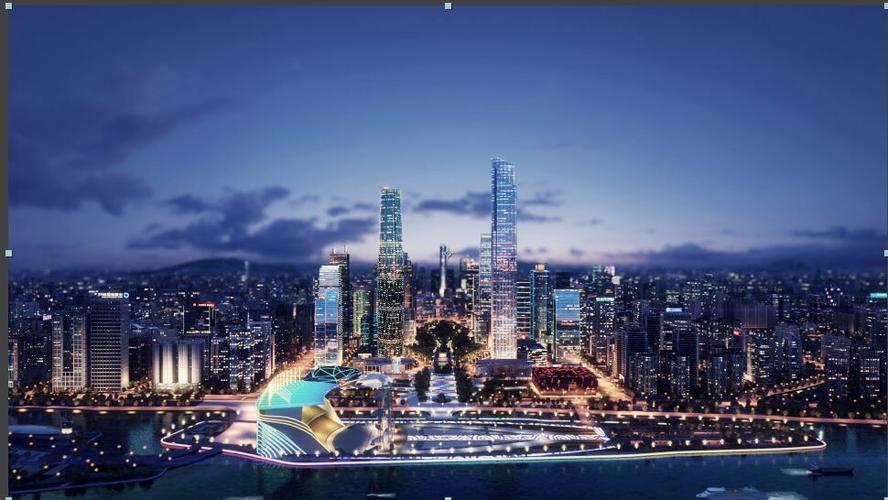buildings: (586, 260, 848, 424), (25, 274, 255, 408), (466, 148, 542, 380), (349, 173, 425, 371)
sky_cloud: (85, 54, 888, 224)
